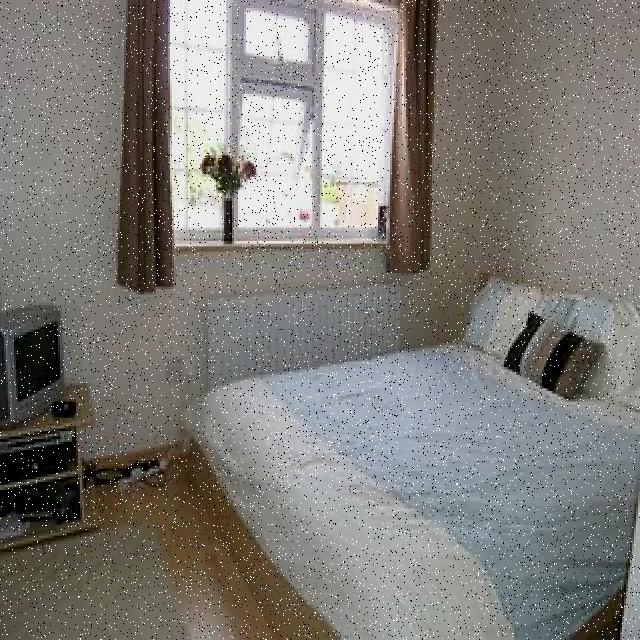bed: (180, 276, 640, 640)
